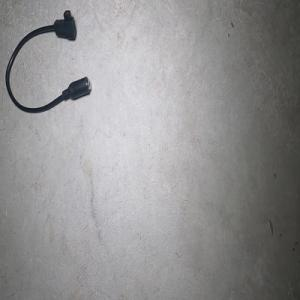Wire: (5, 9, 91, 113)
